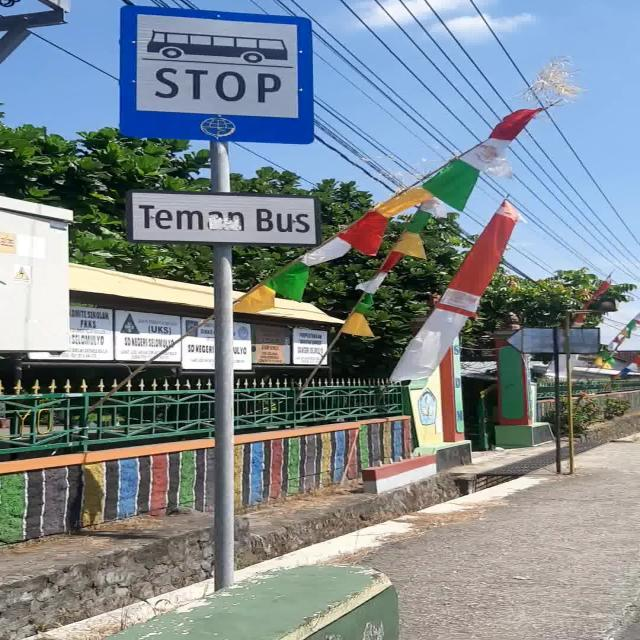Pemberhentian Bus: (116, 5, 316, 146)
